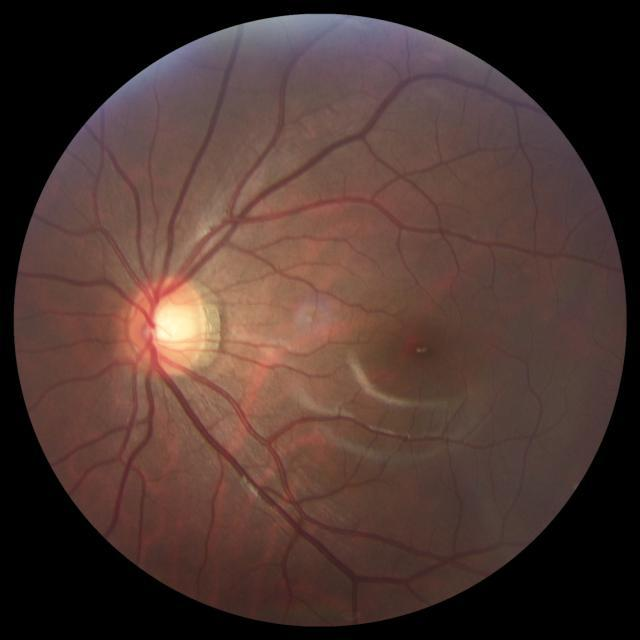OC: (150, 300, 195, 344)
OD: (126, 274, 206, 376)
